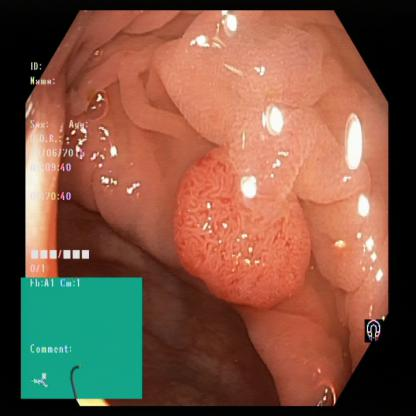Labels: (25, 47, 124, 276), (19, 276, 143, 400)
Polyps: (170, 156, 308, 316)
